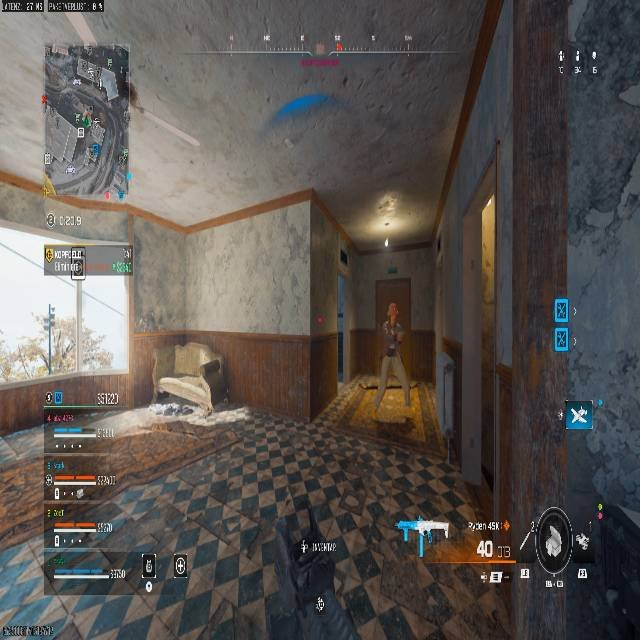player: (383, 302, 402, 357)
